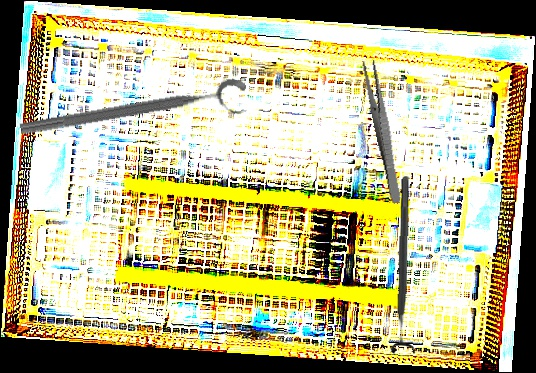Dressing Forceps: (360, 58, 406, 205)
Fixation Ring: (18, 76, 251, 154), (388, 175, 420, 355)
